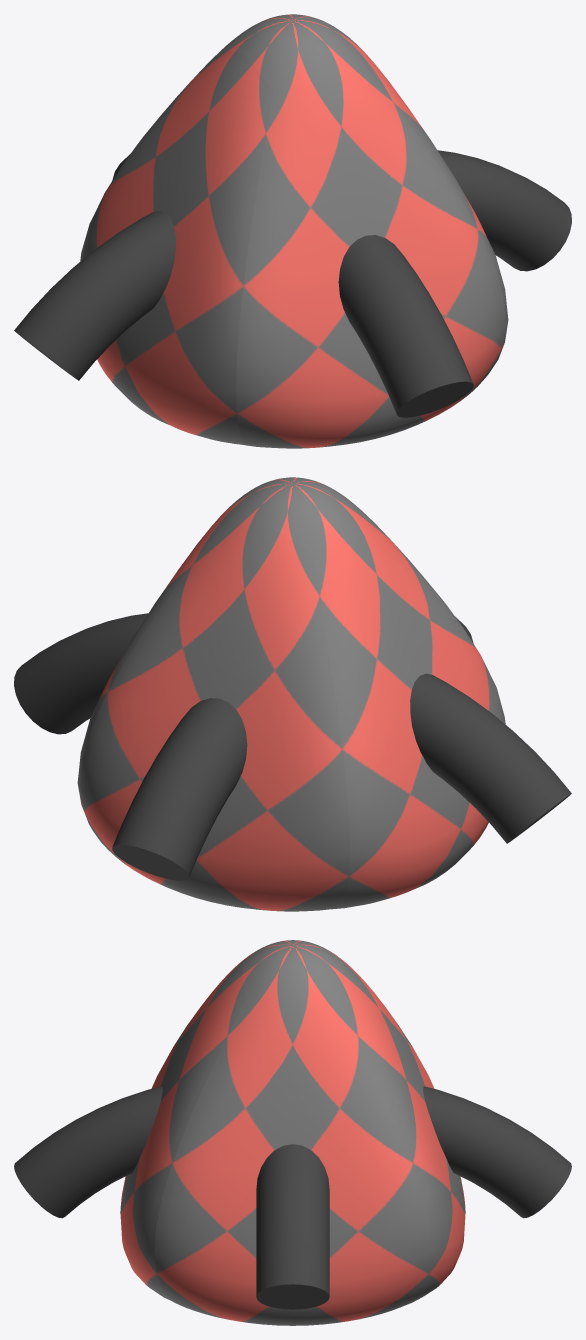
File: Body(Pyramidal)+Colour(More_Red)+Arms(Bent_Down)+Pattern(Diamond).fbx
The picture shows the model from 3 angles, top to bottom: view 1: azimuth 30°, elevation 25°; view 2: azimuth 150°, elevation 25°; view 3: azimuth 270°, elevation 25°; orthographic projection. The views are drawn at different scales.
Parts seen in each view (by area): view 1: Body(Pyramidal)+Colour(More_Red)+Arms(Bent_Down)+Pattern(Dia (×4); view 2: Body(Pyramidal)+Colour(More_Red)+Arms(Bent_Down)+Pattern(Dia (×4); view 3: Body(Pyramidal)+Colour(More_Red)+Arms(Bent_Down)+Pattern(Dia (×4).
Boxes of the visible parts, x1,y1,x2,y2 form: Body(Pyramidal)+Colour(More_Red)+Arms(Bent_Down)+Pattern(Dia (×4): (14, 14, 571, 448); Body(Pyramidal)+Colour(More_Red)+Arms(Bent_Down)+Pattern(Dia (×4): (14, 477, 571, 911); Body(Pyramidal)+Colour(More_Red)+Arms(Bent_Down)+Pattern(Dia (×4): (14, 940, 571, 1325).
Size of the model in its own units: 60.67 by 40 by 60.67.
2 materials, 2 textured.
